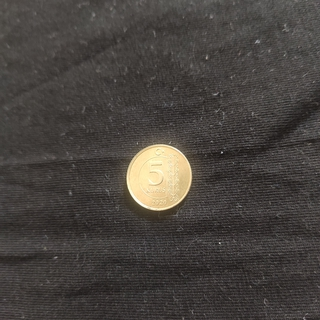5KURUS: (124, 142, 193, 213)
